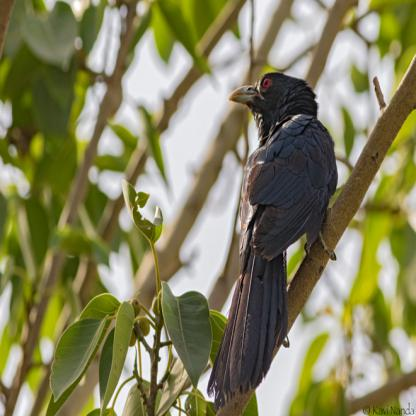Burung: (207, 71, 338, 411)
